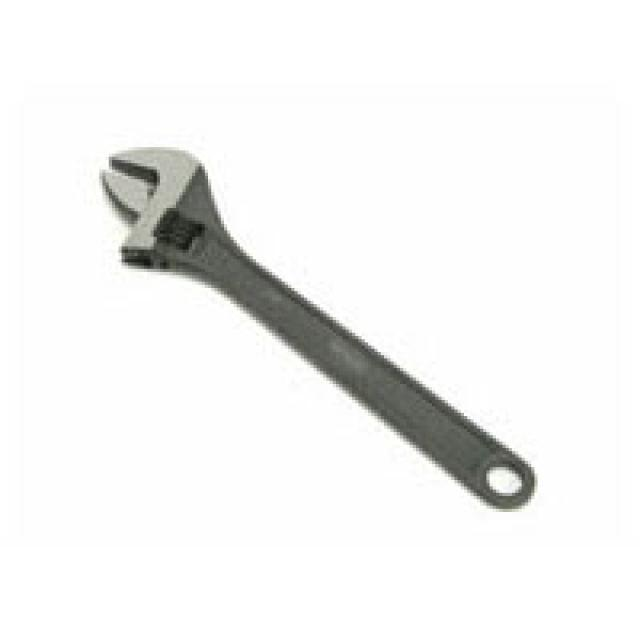wrench: (90, 138, 542, 520)
